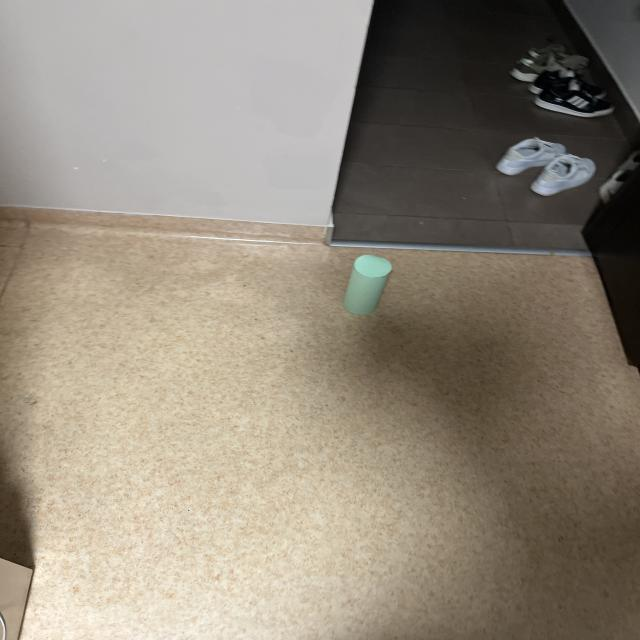meta: (343, 255, 392, 314)
